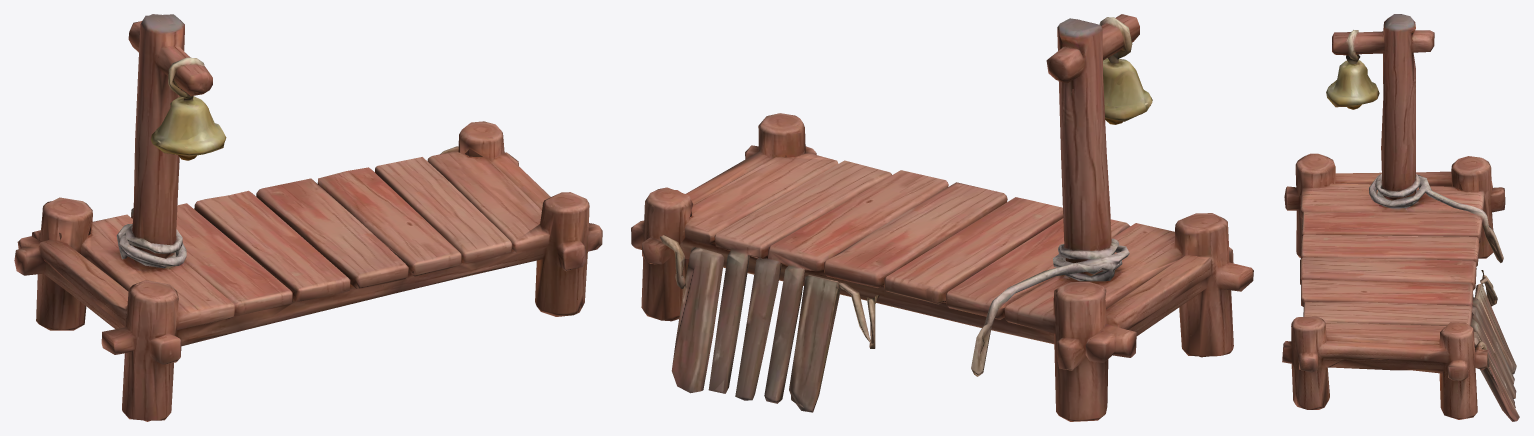
The model's file is offering-mooring.glb.
3 views of the same model, side by side, from view 1: azimuth 30°, elevation 25°; view 2: azimuth 150°, elevation 25°; view 3: azimuth 270°, elevation 25° (orthographic). The views are drawn at different scales.
Bounding box in the file's own units: 3 × 2.14 × 1.61.
Materials: 1 (1 with a texture image).
